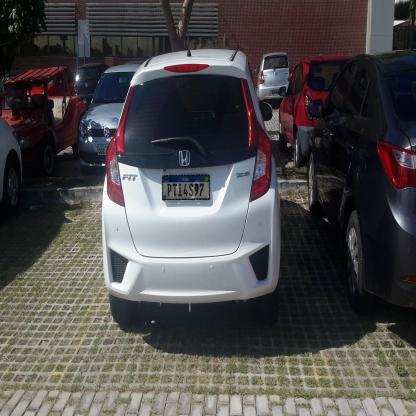PlacaM: (162, 175, 210, 200)
